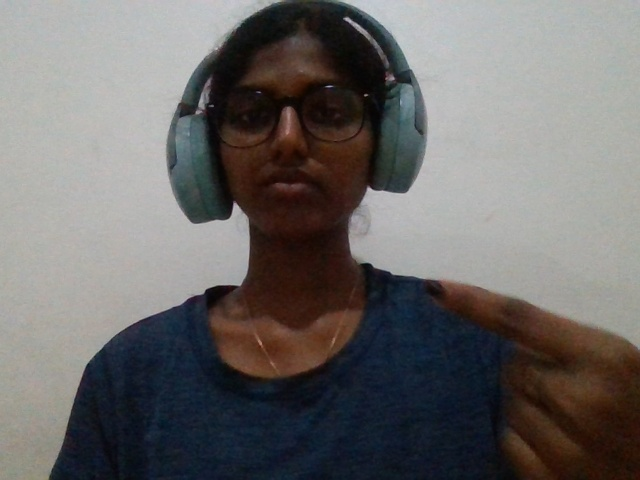Me: (385, 215, 640, 480)
